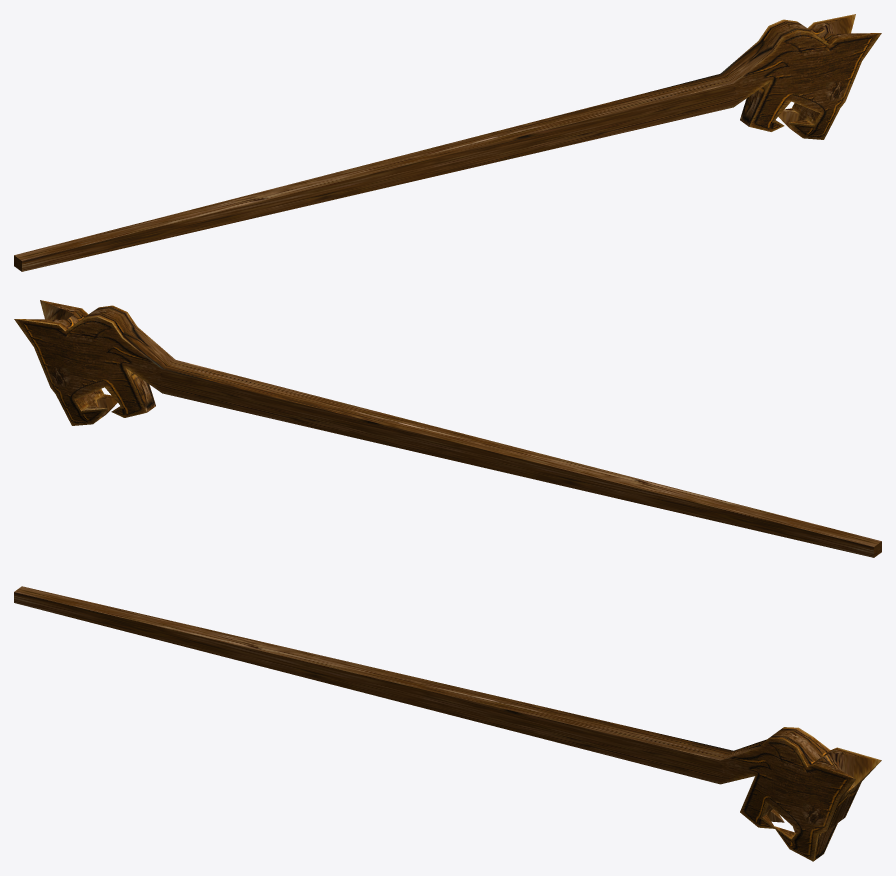
3 views of the same model, one above another, from view 1: azimuth 30°, elevation 25°; view 2: azimuth 150°, elevation 25°; view 3: azimuth 330°, elevation 25° (orthographic).
Parts seen in each view (by area): view 1: it10643; view 2: it10643; view 3: it10643.
Boxes of the visible parts, x1=… form: it10643: x1=14, y1=14, x2=881, y2=271; it10643: x1=14, y1=300, x2=881, y2=557; it10643: x1=14, y1=586, x2=881, y2=861.
Size of the model in its own units: 6 by 0.7925 by 0.3159.
Materials: 1 (1 with a texture image).
